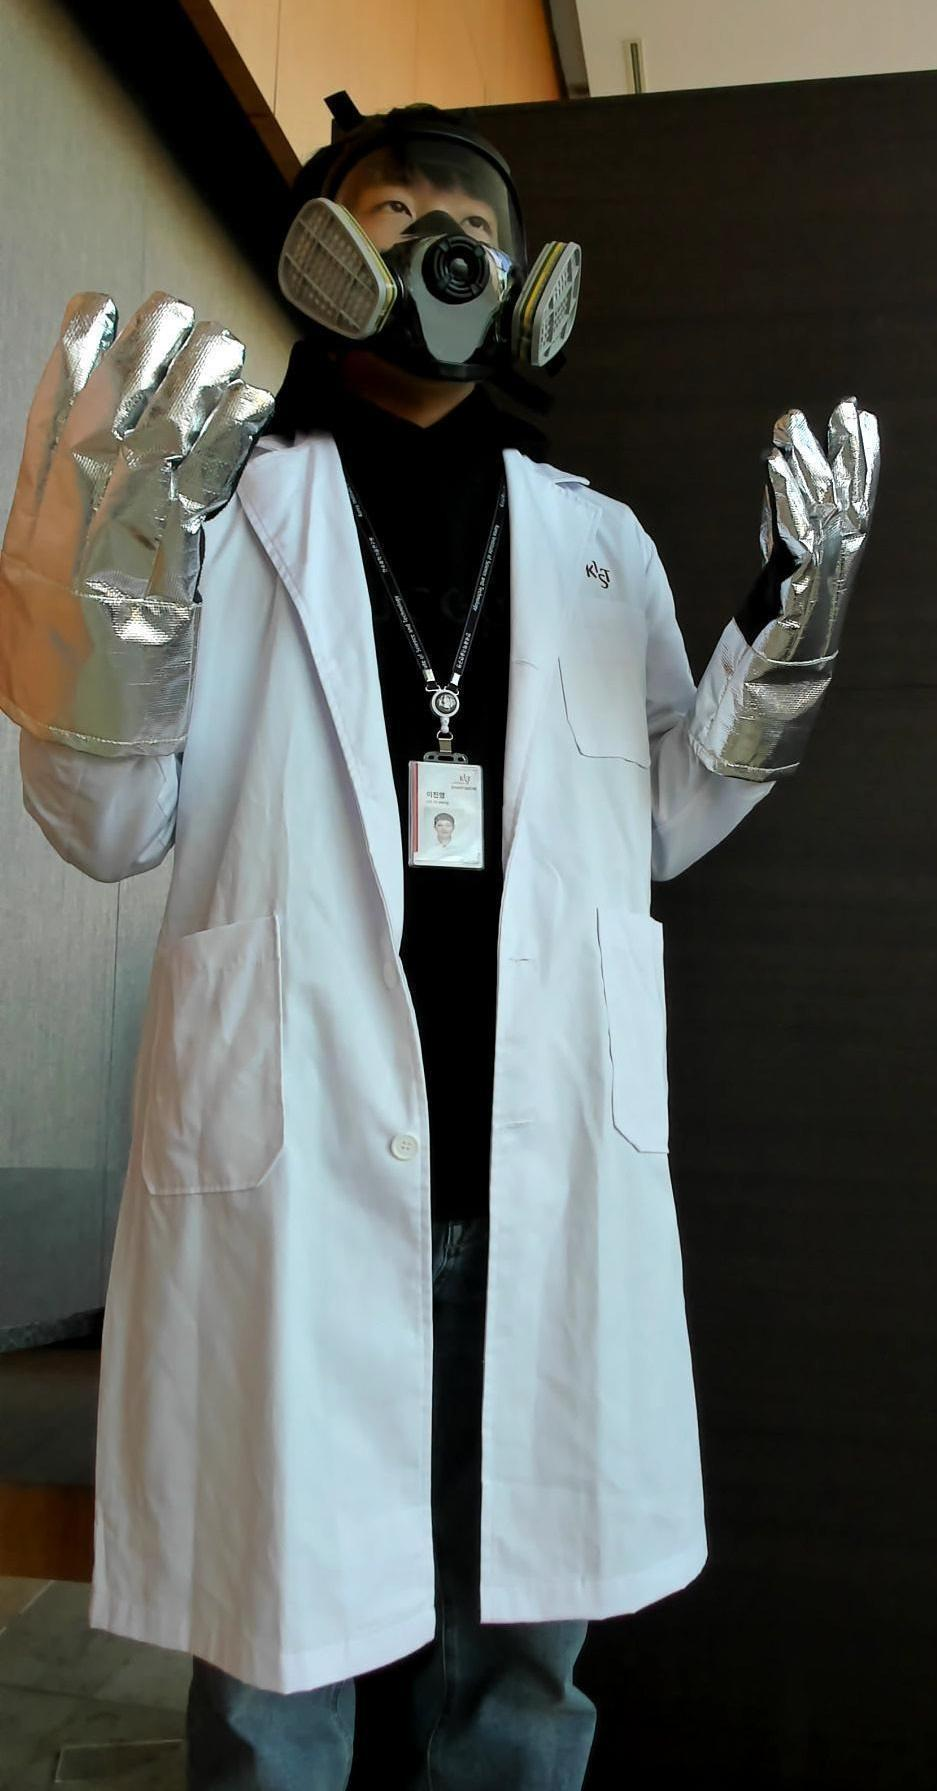lab_coat: (178, 502, 704, 1636)
